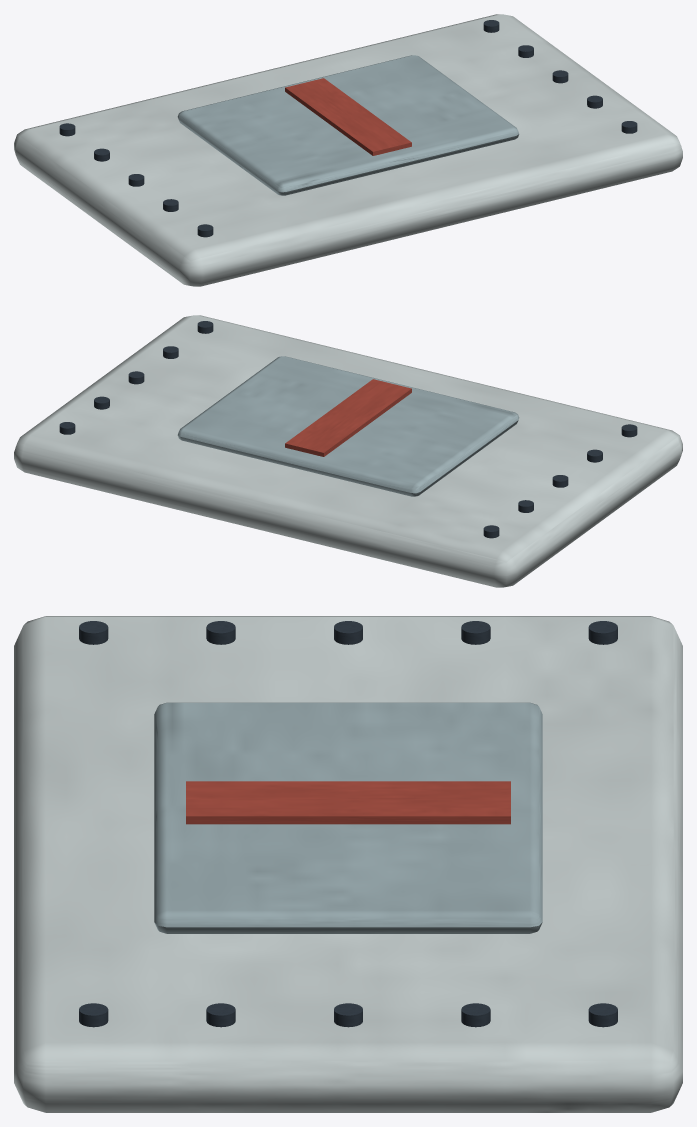
The model's file is AircraftPanel.glb.
3 renders of one model, top to bottom at view 1: azimuth 30°, elevation 25°; view 2: azimuth 150°, elevation 25°; view 3: azimuth 270°, elevation 25°, orthographic. The views are drawn at different scales.
Visible parts, largest first — view 1: Wing panel, Service hatch, Mark; view 2: Wing panel, Service hatch, Mark; view 3: Wing panel, Service hatch, Mark.
Part boxes in pixels (box(x1,y1,x2,y2)): Wing panel: box(14, 14, 682, 286); Service hatch: box(177, 55, 519, 195); Mark: box(285, 78, 411, 155); Wing panel: box(14, 315, 682, 587); Service hatch: box(177, 356, 519, 496); Mark: box(285, 379, 411, 456); Wing panel: box(14, 616, 682, 1112); Service hatch: box(154, 702, 542, 933); Mark: box(186, 781, 510, 824).
Bounding box in the file's own units: 1.68 × 0.1735 × 1.05.
4 materials, 4 textured.
